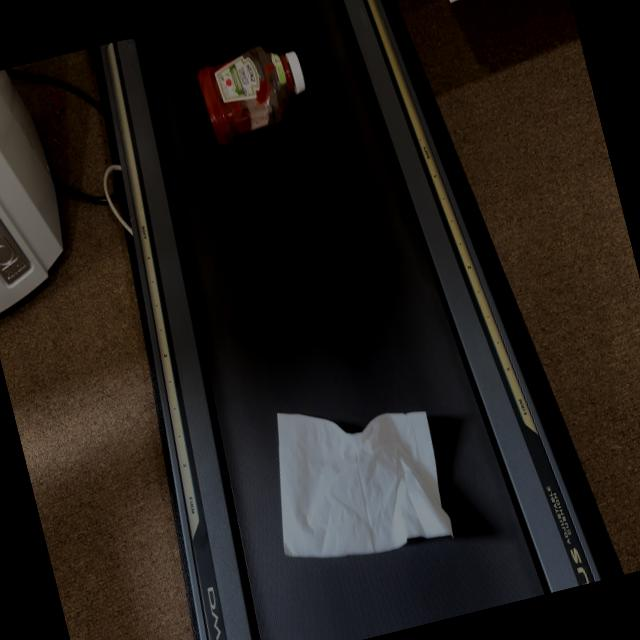Recycle: (245, 370, 464, 584)
Trash: (190, 32, 314, 143)
